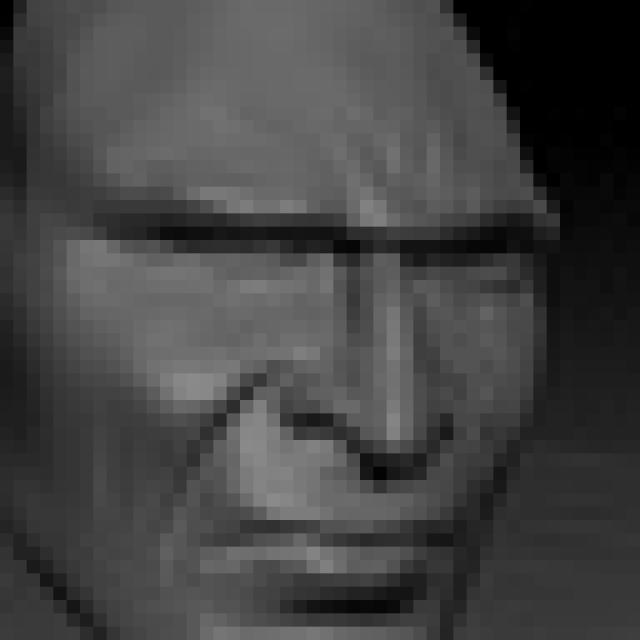disgust: (79, 109, 542, 629)
